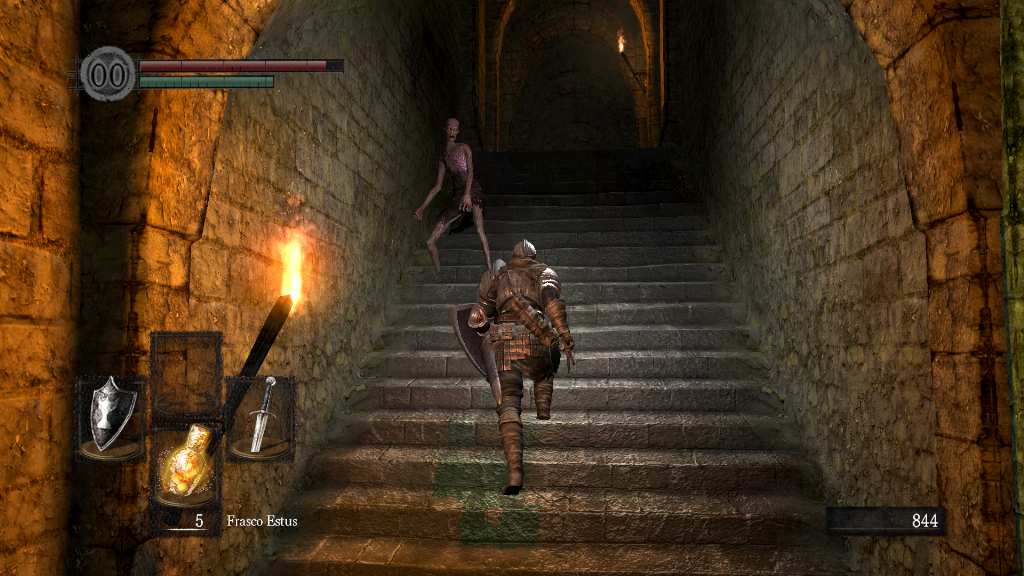health: (138, 58, 343, 71)
hollow: (414, 115, 498, 273)
humanity: (80, 45, 136, 102)
player: (451, 239, 578, 497)
souls: (825, 506, 945, 536)
stamina: (138, 74, 274, 88)
